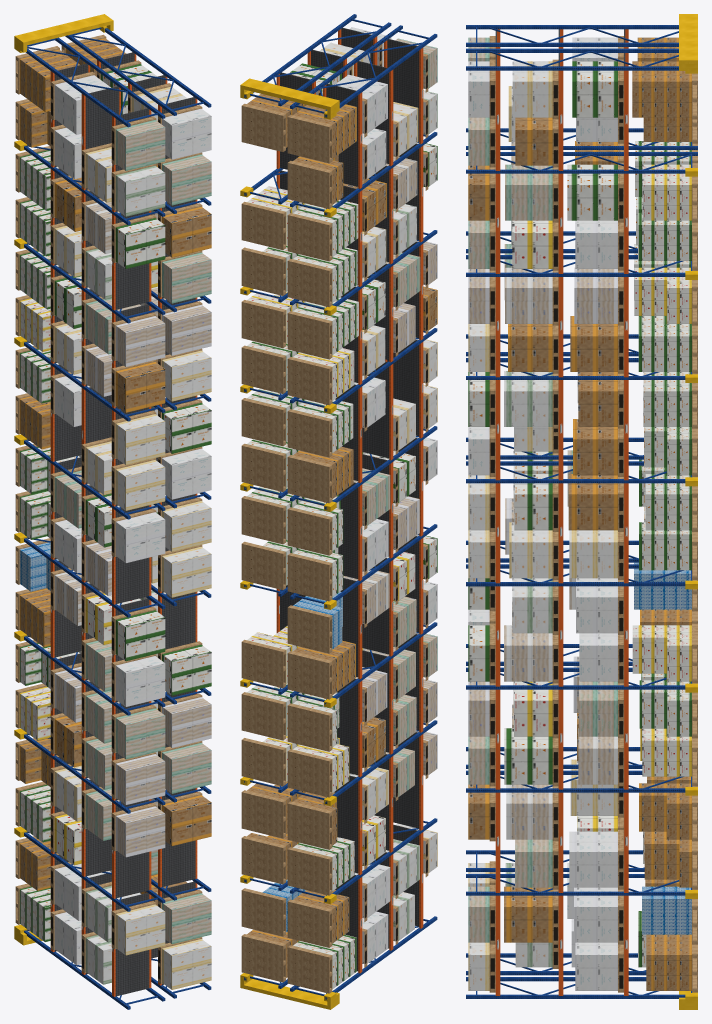
File: racks_w0_n.gltf
3 renders of one model, left to right at view 1: azimuth 30°, elevation 25°; view 2: azimuth 150°, elevation 25°; view 3: azimuth 270°, elevation 25°, orthographic. The views are drawn at different scales.
Visible parts, largest first — view 1: racks_w0_n; view 2: racks_w0_n; view 3: racks_w0_n.
Part boxes in pixels (box(x1,y1,x2,y2)): racks_w0_n: box(14, 14, 211, 1009); racks_w0_n: box(240, 14, 437, 1009); racks_w0_n: box(466, 14, 697, 1009).
Bounding box in the file's own units: 2.6 × 24.86 × 5.5.
18 materials, 18 textured.
